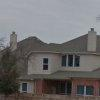Chimney: (80, 23, 98, 54)
